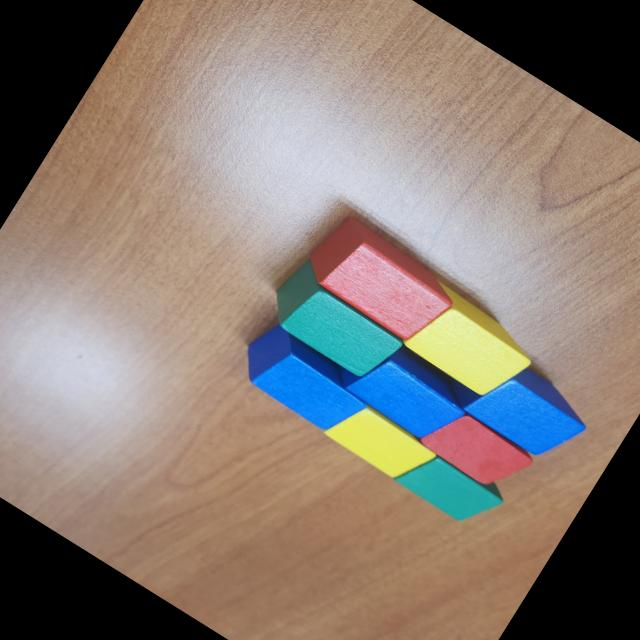blue: (437, 336, 596, 471), (230, 316, 379, 444), (326, 327, 476, 452)
green: (260, 253, 414, 388), (391, 434, 510, 536)
red: (296, 208, 464, 352), (411, 396, 537, 504)
yellow: (395, 279, 541, 409), (317, 389, 439, 491)
